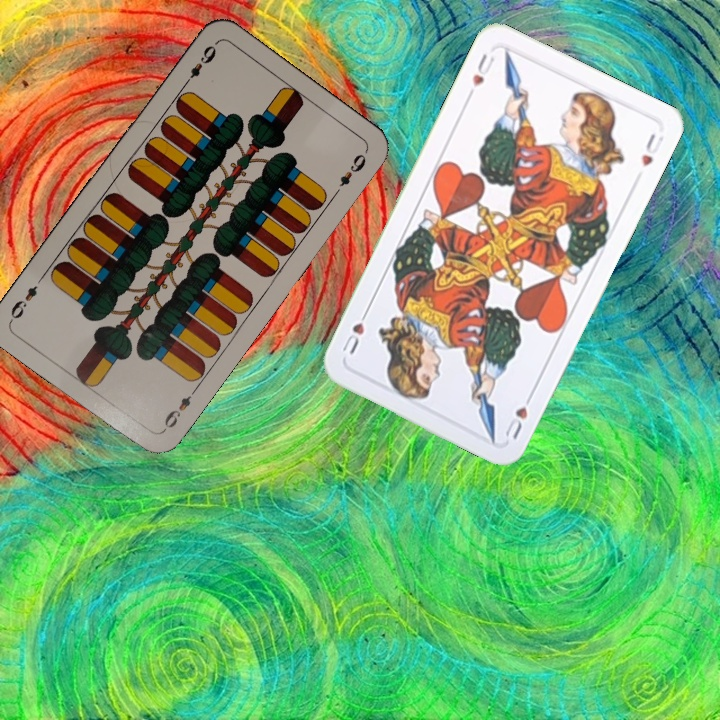E9: (159, 384, 200, 434), (179, 41, 219, 90)
HU: (501, 388, 536, 443), (464, 49, 497, 100)
